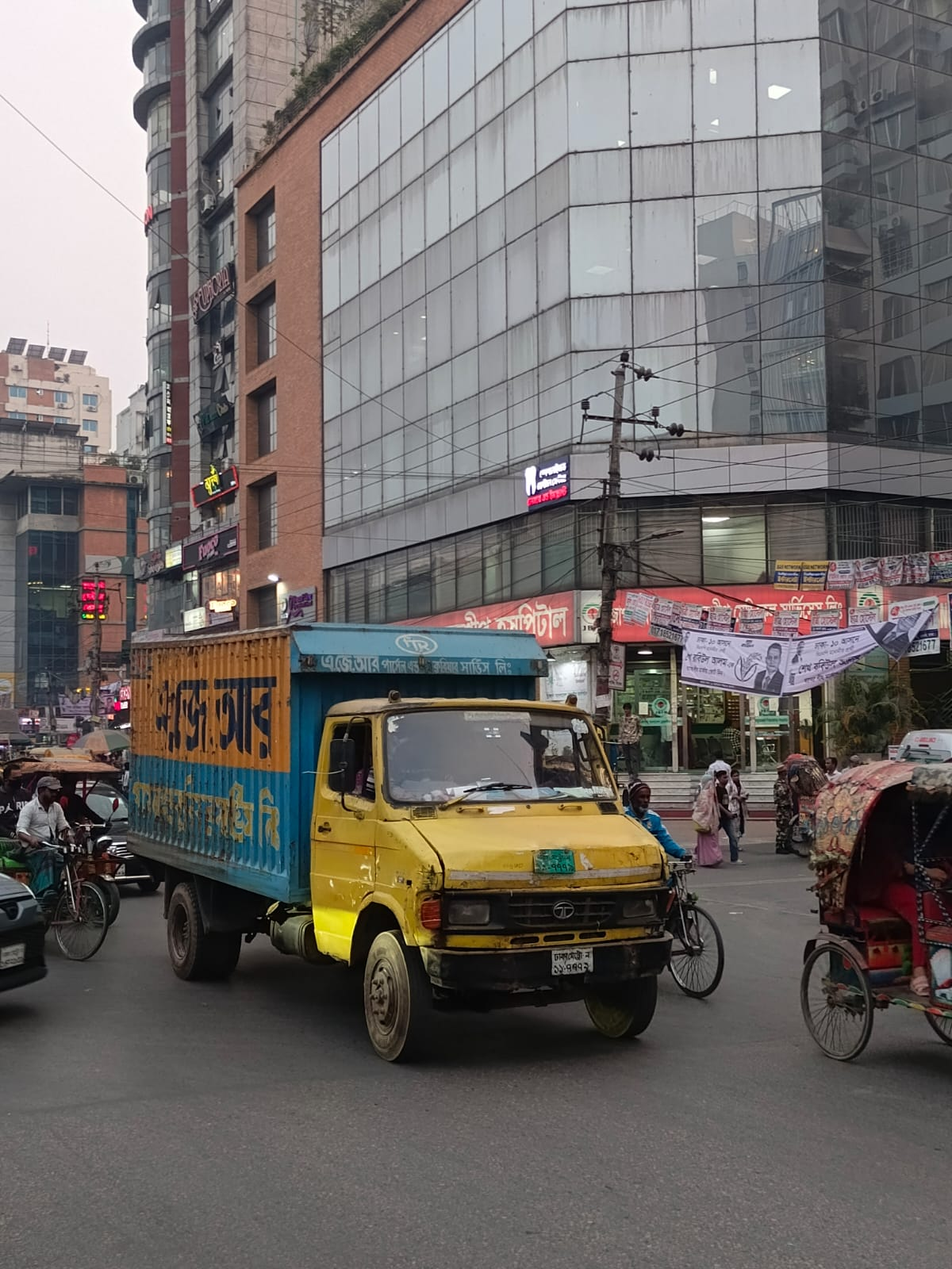Truck: (106, 598, 681, 1052)
auto-ricksaw: (807, 757, 952, 1090), (3, 743, 142, 898)
private car: (0, 841, 74, 995)
